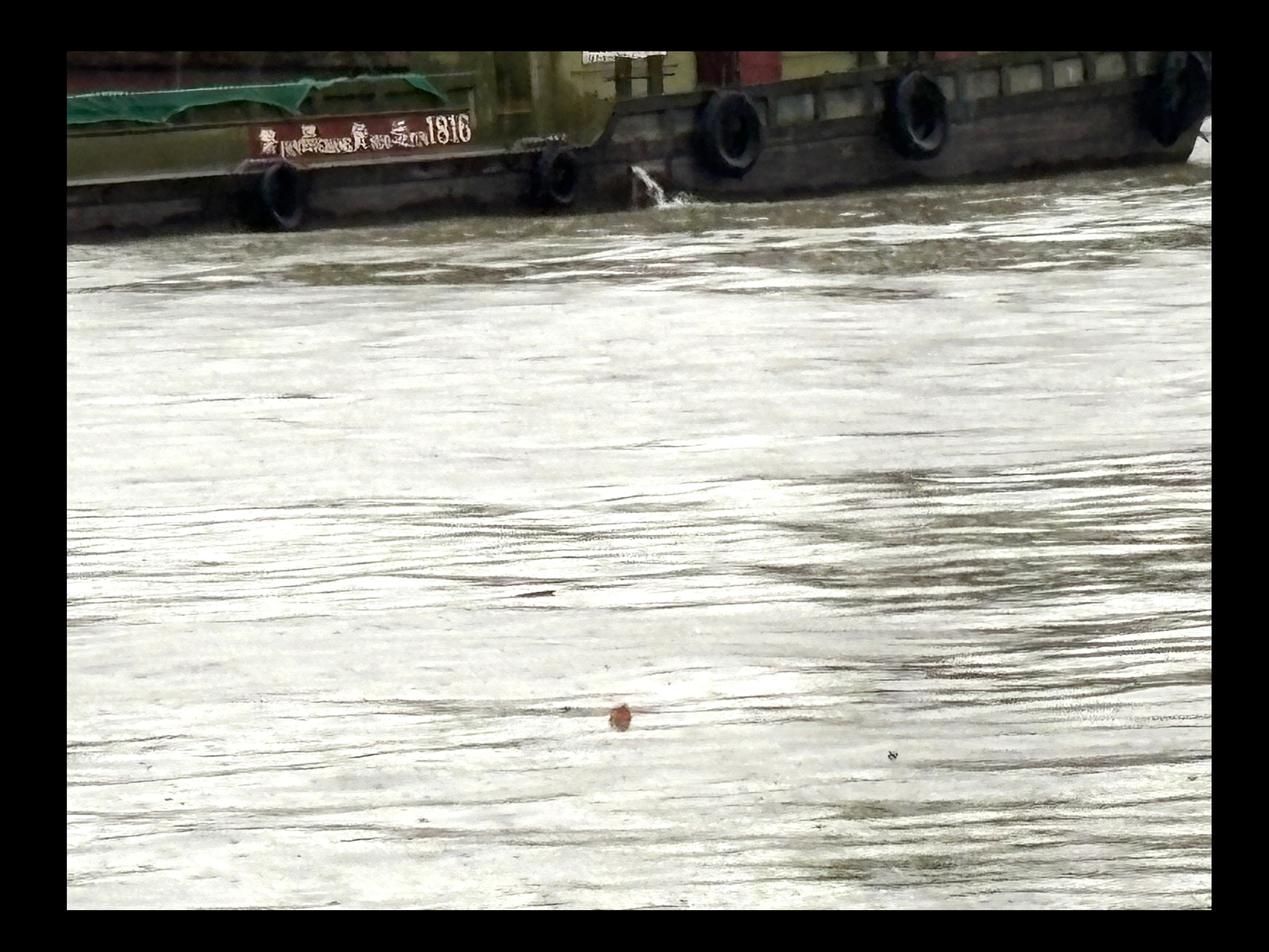Natural wastes: (516, 582, 558, 600)
Plastic wastes: (603, 698, 636, 727)
